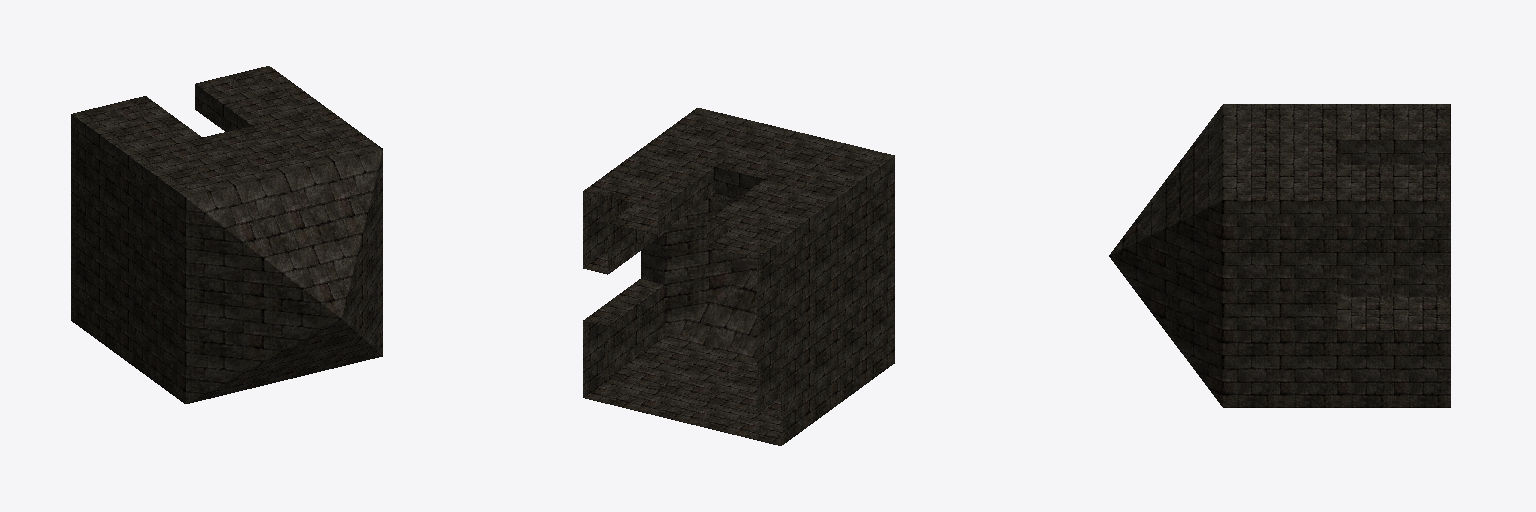
3 renders of one model, left to right at view 1: azimuth 30°, elevation 25°; view 2: azimuth 150°, elevation 25°; view 3: azimuth 270°, elevation 25°, orthographic.
Size of the model in its own units: 256 by 256 by 384.
1 materials, 1 textured.